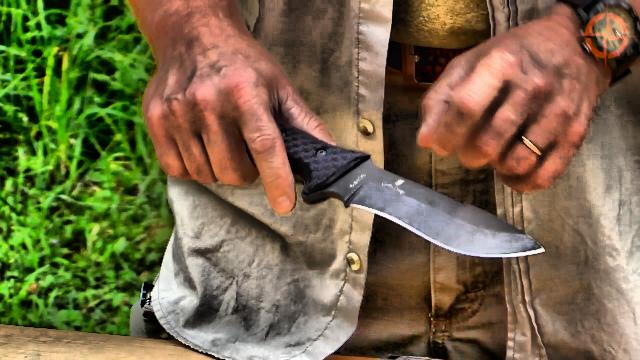knife: (138, 84, 554, 264)
